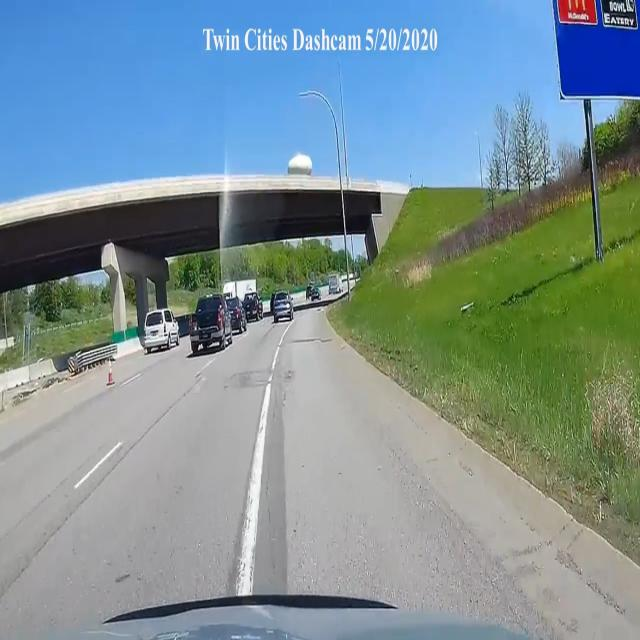Traffic Cone: (105, 357, 116, 385)
